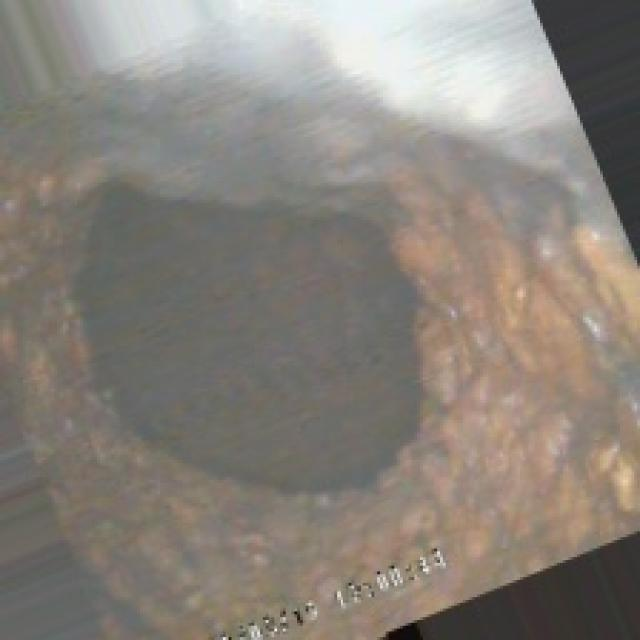encrustation: (60, 171, 446, 506)
